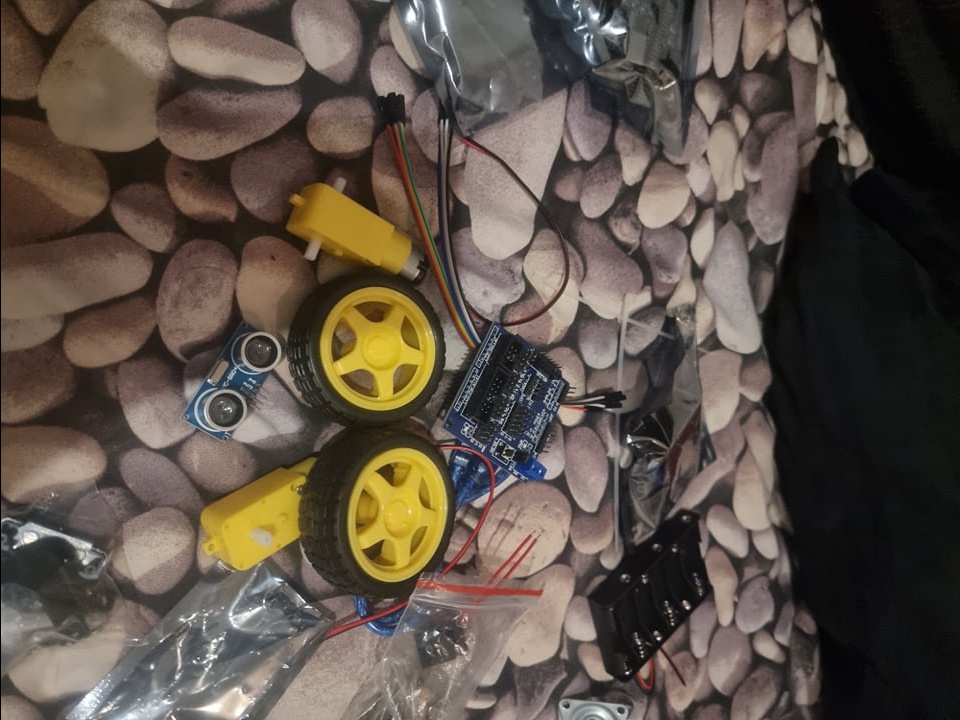5V EXPANSION: (440, 325, 568, 479)
BATTERY BOX: (584, 508, 714, 682)
SENSOR: (185, 318, 284, 439)
